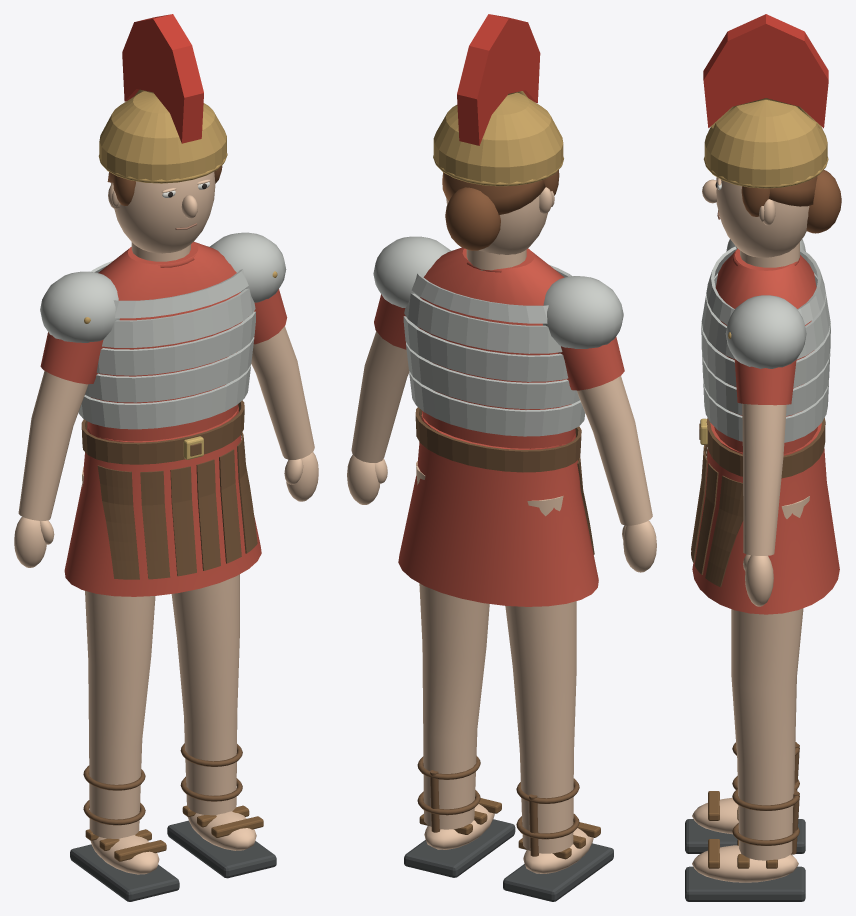
Rendered from soldier_roman_2.glb.
3 renders of one model, left to right at view 1: azimuth 30°, elevation 25°; view 2: azimuth 150°, elevation 25°; view 3: azimuth 270°, elevation 25°, orthographic.
Visible parts, largest first — view 1: Roman_Soldier_2_Bare_Leg, Roman_Soldier_2_Bare_Leg.001, Roman_Soldier_2_Roman_Short_Red_Tunic, Roman_Soldier_2_Open_Face_Helmet, Roman_Soldier_2_Torso_And_Main_Clothes, Roman_Soldier_2_Attached_Red_Crest, Roman_Soldier_2_Arm_Skin, Roman_Soldier_2_Head, Roman_Soldier_2_Arm_Skin.001, Roman_Soldier_2_Rounded_Shoulder_Armor, Roman_Soldier_2_Roman_Torso_Armor_Band, Roman_Soldier_2_Roman_Torso_Armor_Band.001 (+19 smaller); view 2: Roman_Soldier_2_Roman_Short_Red_Tunic, Roman_Soldier_2_Bare_Leg, Roman_Soldier_2_Bare_Leg.001, Roman_Soldier_2_Open_Face_Helmet, Roman_Soldier_2_Torso_And_Main_Clothes, Roman_Soldier_2_Attached_Red_Crest, Roman_Soldier_2_Arm_Skin, Roman_Soldier_2_Arm_Skin.001, Roman_Soldier_2_Rounded_Shoulder_Armor, Roman_Soldier_2_Roman_Torso_Armor_Band, Roman_Soldier_2_Roman_Torso_Armor_Band.001, Roman_Soldier_2_Roman_Torso_Armor_Band.002 (+16 smaller); view 3: Roman_Soldier_2_Bare_Leg.001, Roman_Soldier_2_Roman_Short_Red_Tunic, Roman_Soldier_2_Attached_Red_Crest, Roman_Soldier_2_Open_Face_Helmet, Roman_Soldier_2_Arm_Skin.001, Roman_Soldier_2_Rounded_Shoulder_Armor.001, Roman_Soldier_2_Torso_And_Main_Clothes, Roman_Soldier_2_Head, Roman_Soldier_2_Shoe_Sole.001, Roman_Soldier_2_Roman_Leather_Skirt_Strip.005, Roman_Soldier_2_Short_Sleeve.001, Roman_Soldier_2_Roman_Torso_Armor_Band (+20 smaller).
Part boxes in pixels (x1,y1,x2,y2): Roman_Soldier_2_Bare_Leg: (82,467,155,838); Roman_Soldier_2_Bare_Leg.001: (171,574,239,815); Roman_Soldier_2_Roman_Short_Red_Tunic: (64,406,261,596); Roman_Soldier_2_Open_Face_Helmet: (99,91,226,182); Roman_Soldier_2_Torso_And_Main_Clothes: (87,242,242,441); Roman_Soldier_2_Attached_Red_Crest: (122,14,203,143); Roman_Soldier_2_Arm_Skin: (18,371,88,520); Roman_Soldier_2_Head: (111,172,215,253); Roman_Soldier_2_Arm_Skin.001: (251,326,314,459); Roman_Soldier_2_Rounded_Shoulder_Armor: (40,271,119,342); Roman_Soldier_2_Roman_Torso_Armor_Band: (78,365,250,429); Roman_Soldier_2_Roman_Torso_Armor_Band.001: (85,337,254,402); Roman_Soldier_2_Roman_Short_Red_Tunic: (398,412,598,606); Roman_Soldier_2_Bare_Leg: (505,496,576,853); Roman_Soldier_2_Bare_Leg.001: (416,461,489,829); Roman_Soldier_2_Open_Face_Helmet: (433,92,563,185); Roman_Soldier_2_Torso_And_Main_Clothes: (418,247,575,448); Roman_Soldier_2_Attached_Red_Crest: (457,14,540,145); Roman_Soldier_2_Arm_Skin: (577,376,652,525); Roman_Soldier_2_Arm_Skin.001: (351,331,409,462); Roman_Soldier_2_Rounded_Shoulder_Armor: (543,276,623,348); Roman_Soldier_2_Roman_Torso_Armor_Band: (409,371,585,436); Roman_Soldier_2_Roman_Torso_Armor_Band.001: (406,342,579,409); Roman_Soldier_2_Roman_Torso_Armor_Band.002: (403,316,568,381); Roman_Soldier_2_Bare_Leg.001: (731,496,809,860); Roman_Soldier_2_Roman_Short_Red_Tunic: (692,423,839,614); Roman_Soldier_2_Attached_Red_Crest: (703,14,828,128); Roman_Soldier_2_Open_Face_Helmet: (704,100,827,187); Roman_Soldier_2_Arm_Skin.001: (742,403,786,555); Roman_Soldier_2_Rounded_Shoulder_Armor.001: (725,295,806,368); Roman_Soldier_2_Torso_And_Main_Clothes: (714,249,817,454); Roman_Soldier_2_Head: (716,177,809,257); Roman_Soldier_2_Shoe_Sole.001: (685,866,805,901); Roman_Soldier_2_Roman_Leather_Skirt_Strip.005: (705,475,743,586); Roman_Soldier_2_Short_Sleeve.001: (734,358,796,405); Roman_Soldier_2_Roman_Torso_Armor_Band: (703,380,828,442).
Bounding box in the file's own units: 0.6234 × 1.66 × 0.2781.
